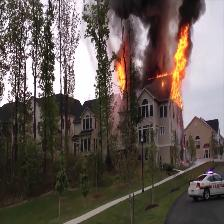fire: (169, 25, 188, 111), (113, 49, 127, 93)
smoke: (115, 2, 165, 50), (175, 0, 204, 24)
